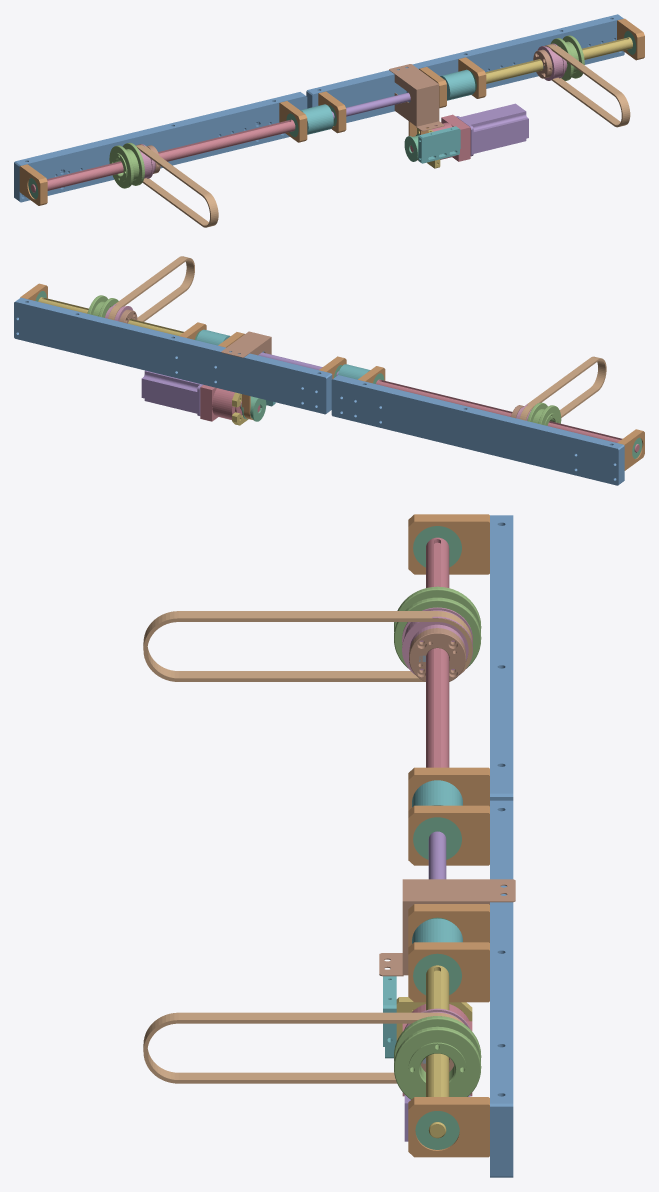
3 views of the same model, one above another, from view 1: azimuth 30°, elevation 25°; view 2: azimuth 150°, elevation 25°; view 3: azimuth 270°, elevation 25° (orthographic). The views are drawn at different scales.
Visible parts, largest first — view 1: part_11_0_1, part_11_0_0, part_18_13_0, part_20_32_0, part_09_35_0, part_07_27_0, part_07_22_0, part_17_15_0, part_13_34_0, part_05_21_0, part_01_1_0, part_08_17_0 (+12 smaller); view 2: part_11_0_0, part_11_0_1, part_20_32_0, part_07_27_0, part_07_22_0, part_18_13_0, part_19_31_0, part_09_35_0, part_17_15_0, part_05_21_0, part_01_1_0, part_05_26_0 (+2 smaller); view 3: part_11_0_0, part_07_22_0, part_11_0_1, part_07_27_0, part_05_26_0, part_18_13_0, part_09_35_0, part_01_11_0, part_01_5_0, part_01_1_0, part_01_9_0, part_05_21_0 (+12 smaller).
Part boxes in pixels (x1,y1,x2,y2): part_11_0_1: [14, 92, 307, 202]; part_11_0_0: [306, 14, 624, 122]; part_18_13_0: [31, 119, 295, 192]; part_20_32_0: [456, 103, 528, 156]; part_09_35_0: [389, 64, 444, 131]; part_07_27_0: [545, 44, 630, 127]; part_07_22_0: [136, 144, 218, 227]; part_17_15_0: [485, 37, 632, 83]; part_13_34_0: [418, 126, 460, 163]; part_05_21_0: [109, 142, 144, 188]; part_01_1_0: [19, 164, 47, 205]; part_08_17_0: [440, 69, 475, 100]; part_11_0_0: [14, 297, 332, 414]; part_11_0_1: [331, 375, 624, 485]; part_20_32_0: [141, 370, 203, 415]; part_07_27_0: [106, 256, 194, 321]; part_07_22_0: [518, 356, 606, 420]; part_18_13_0: [376, 379, 639, 452]; part_19_31_0: [200, 385, 260, 421]; part_09_35_0: [221, 331, 271, 357]; part_17_15_0: [38, 297, 183, 335]; part_05_21_0: [527, 402, 561, 425]; part_01_1_0: [617, 429, 644, 470]; part_05_26_0: [87, 295, 118, 317]; part_11_0_0: [490, 800, 513, 1177]; part_07_22_0: [143, 611, 472, 681]; part_11_0_1: [490, 515, 513, 800]; part_07_27_0: [143, 1012, 463, 1083]; part_05_26_0: [394, 1016, 481, 1099]; part_18_13_0: [426, 537, 449, 767]; part_09_35_0: [379, 879, 515, 976]; part_01_11_0: [408, 1097, 489, 1157]; part_01_5_0: [408, 805, 489, 865]; part_01_1_0: [408, 514, 489, 574]; part_01_9_0: [408, 942, 489, 1002]; part_05_21_0: [394, 586, 481, 668].
Bounding box in the file's own units: 1200 × 168 × 320.
